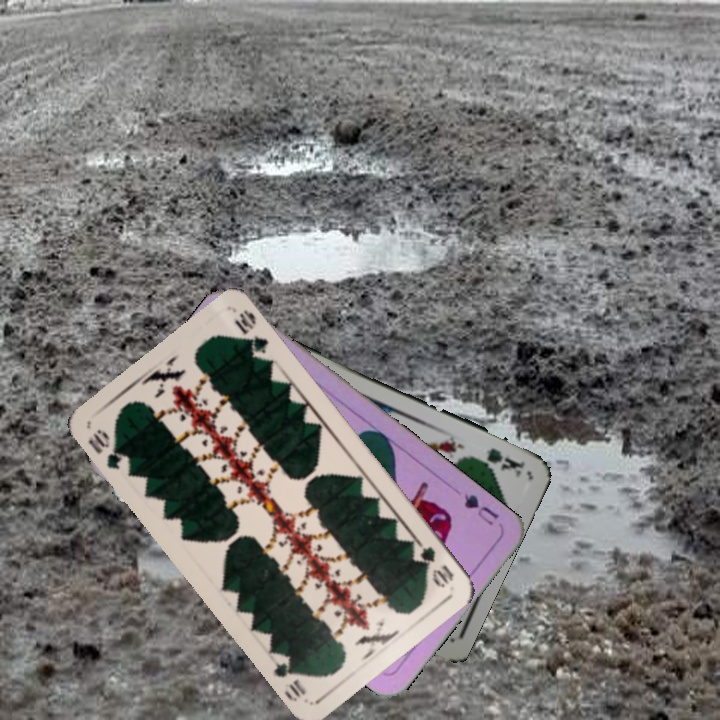G10: (83, 425, 134, 473), (413, 536, 457, 591)
GK: (468, 443, 528, 480)
GU: (460, 489, 502, 528)
